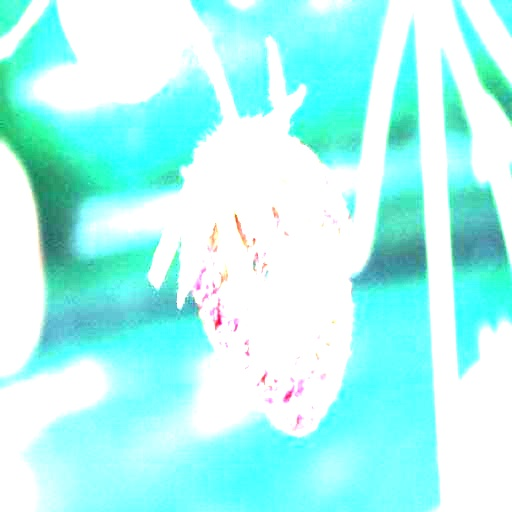Gray Mold: (189, 137, 353, 435)
